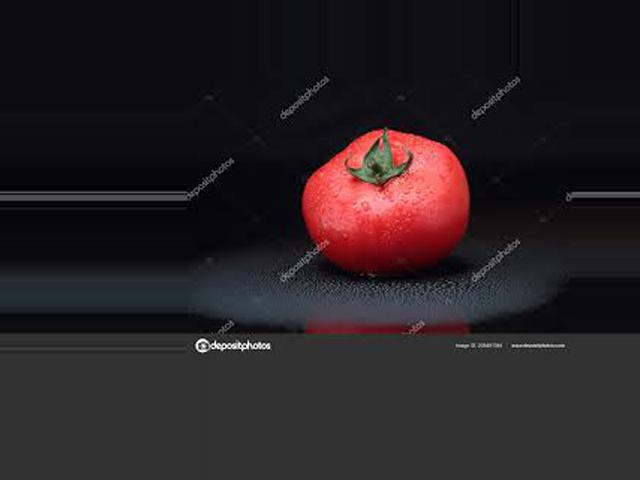tomato: (301, 127, 471, 274)
